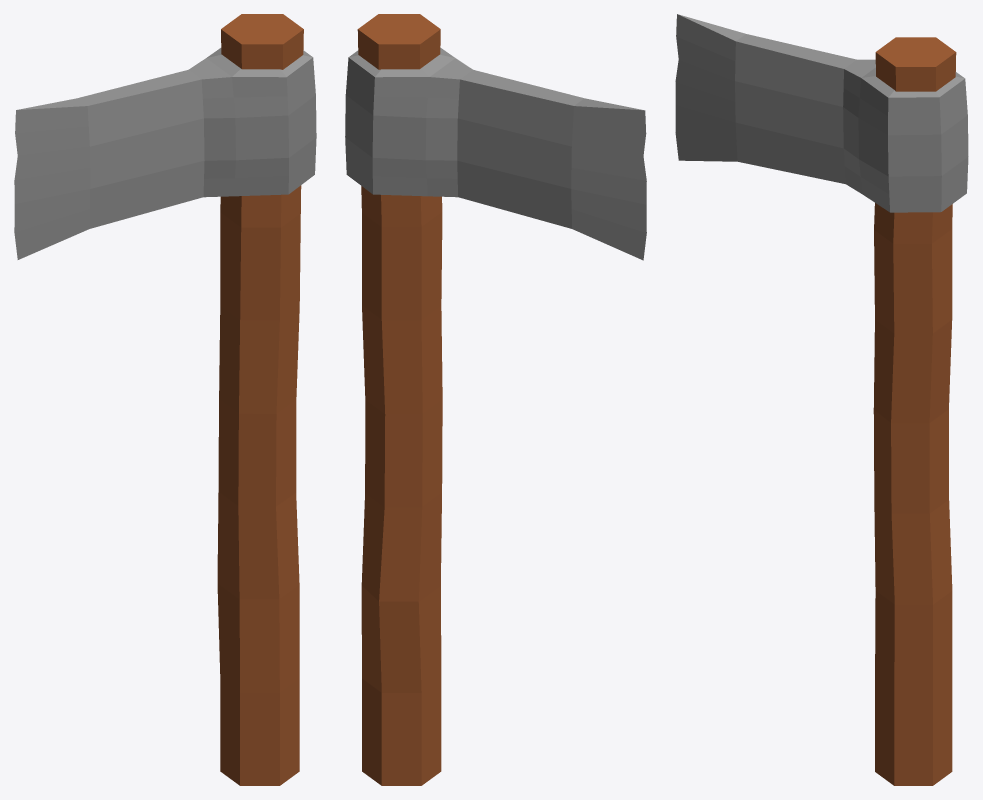
3 views of the same model, side by side, from view 1: azimuth 30°, elevation 25°; view 2: azimuth 150°, elevation 25°; view 3: azimuth 330°, elevation 25° (orthographic). The views are drawn at different scales.
Parts seen in each view (by area): view 1: HatchetHandle, HatchetBlade; view 2: HatchetHandle, HatchetBlade; view 3: HatchetHandle, HatchetBlade.
Part boxes in pixels (x1,y1,x2,y2): HatchetHandle: [217, 14, 303, 785]; HatchetBlade: [14, 48, 316, 259]; HatchetHandle: [357, 14, 442, 785]; HatchetBlade: [345, 47, 646, 260]; HatchetHandle: [873, 37, 956, 785]; HatchetBlade: [675, 14, 968, 212].
Size of the model in its own units: 4.95 by 12.16 by 1.63.
